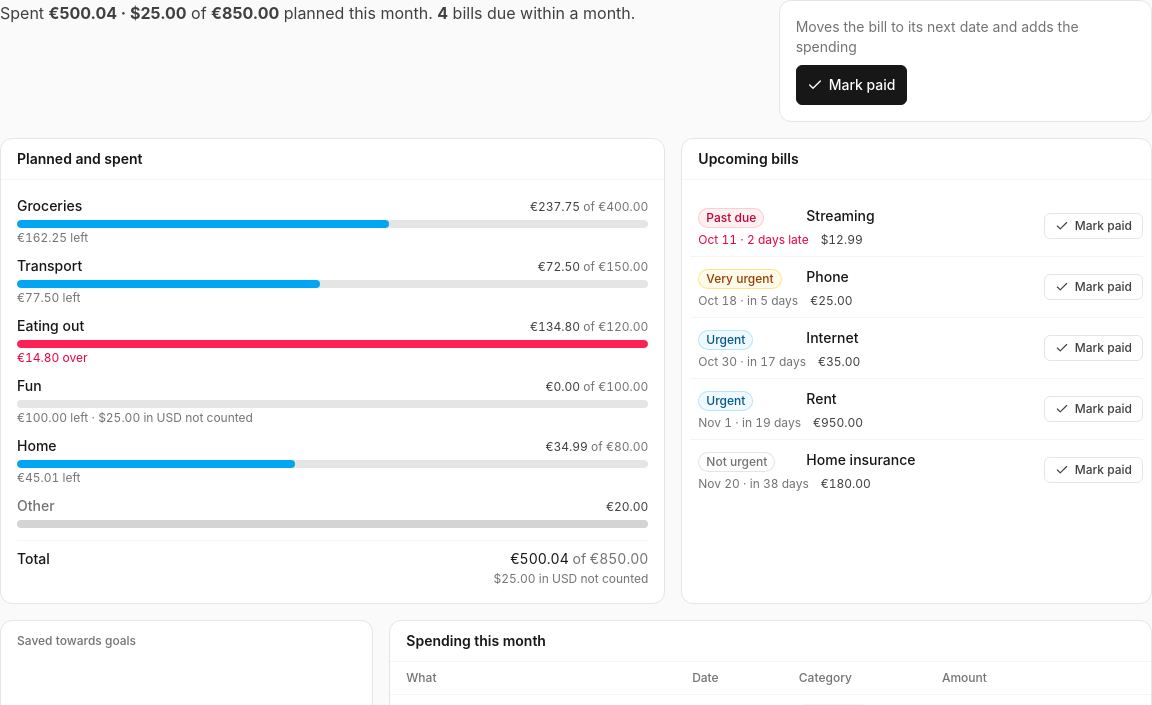
Test: Mark paid (Money) › puts the button on every due bill, with that bill picked
Click the button with aria-label "Mark paid: Rent".
click(1093, 409)  # box left=1044, top=396, right=1143, bottom=422
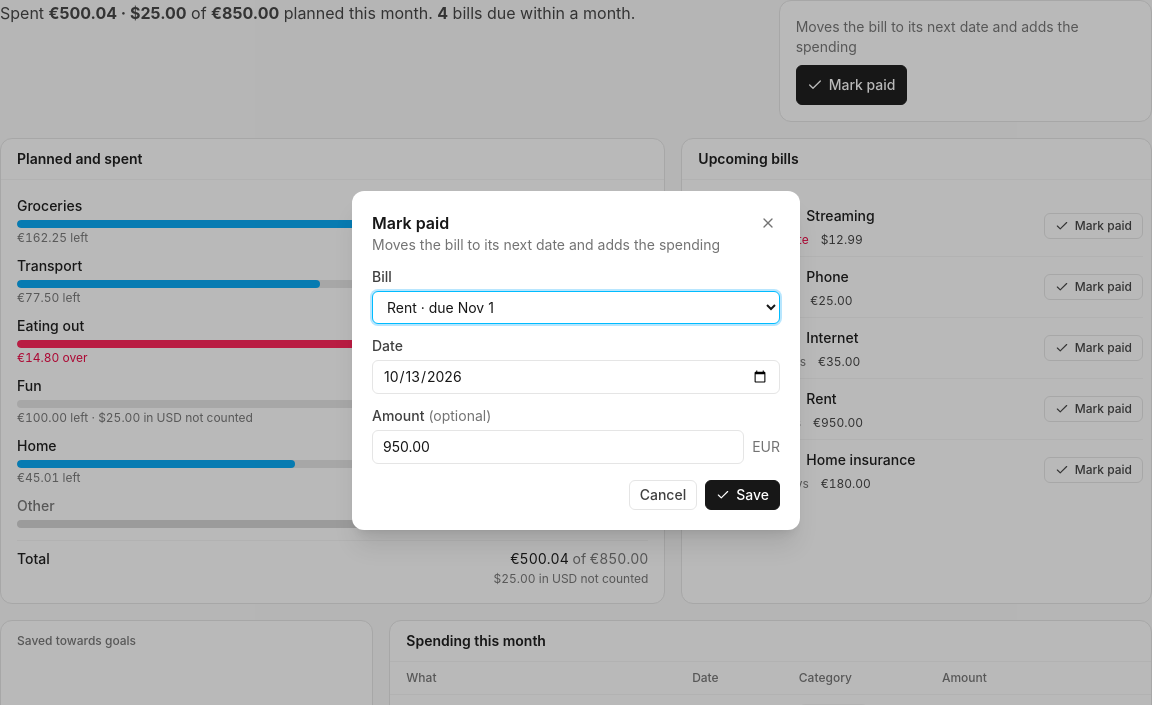
Check: the dropdown labelled "Bill" shows "Rent · due Nov 1", box left=372, top=290, right=780, bottom=324
